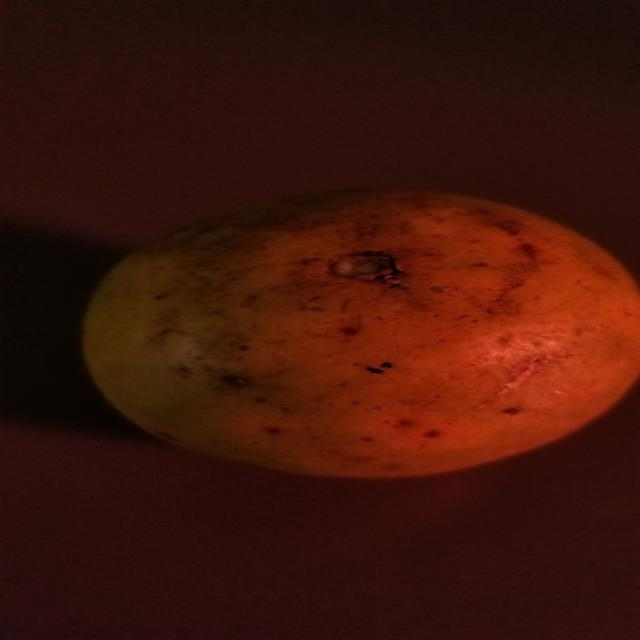Ripe orange: (72, 170, 640, 484)
